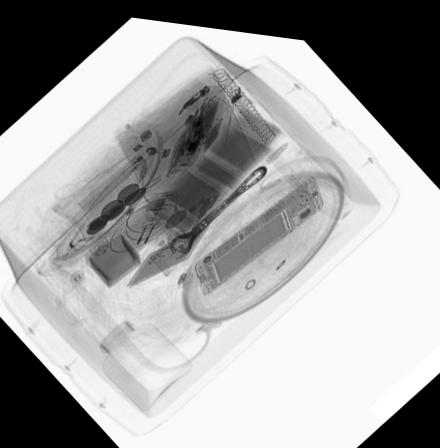Lighter: (69, 149, 149, 227)
